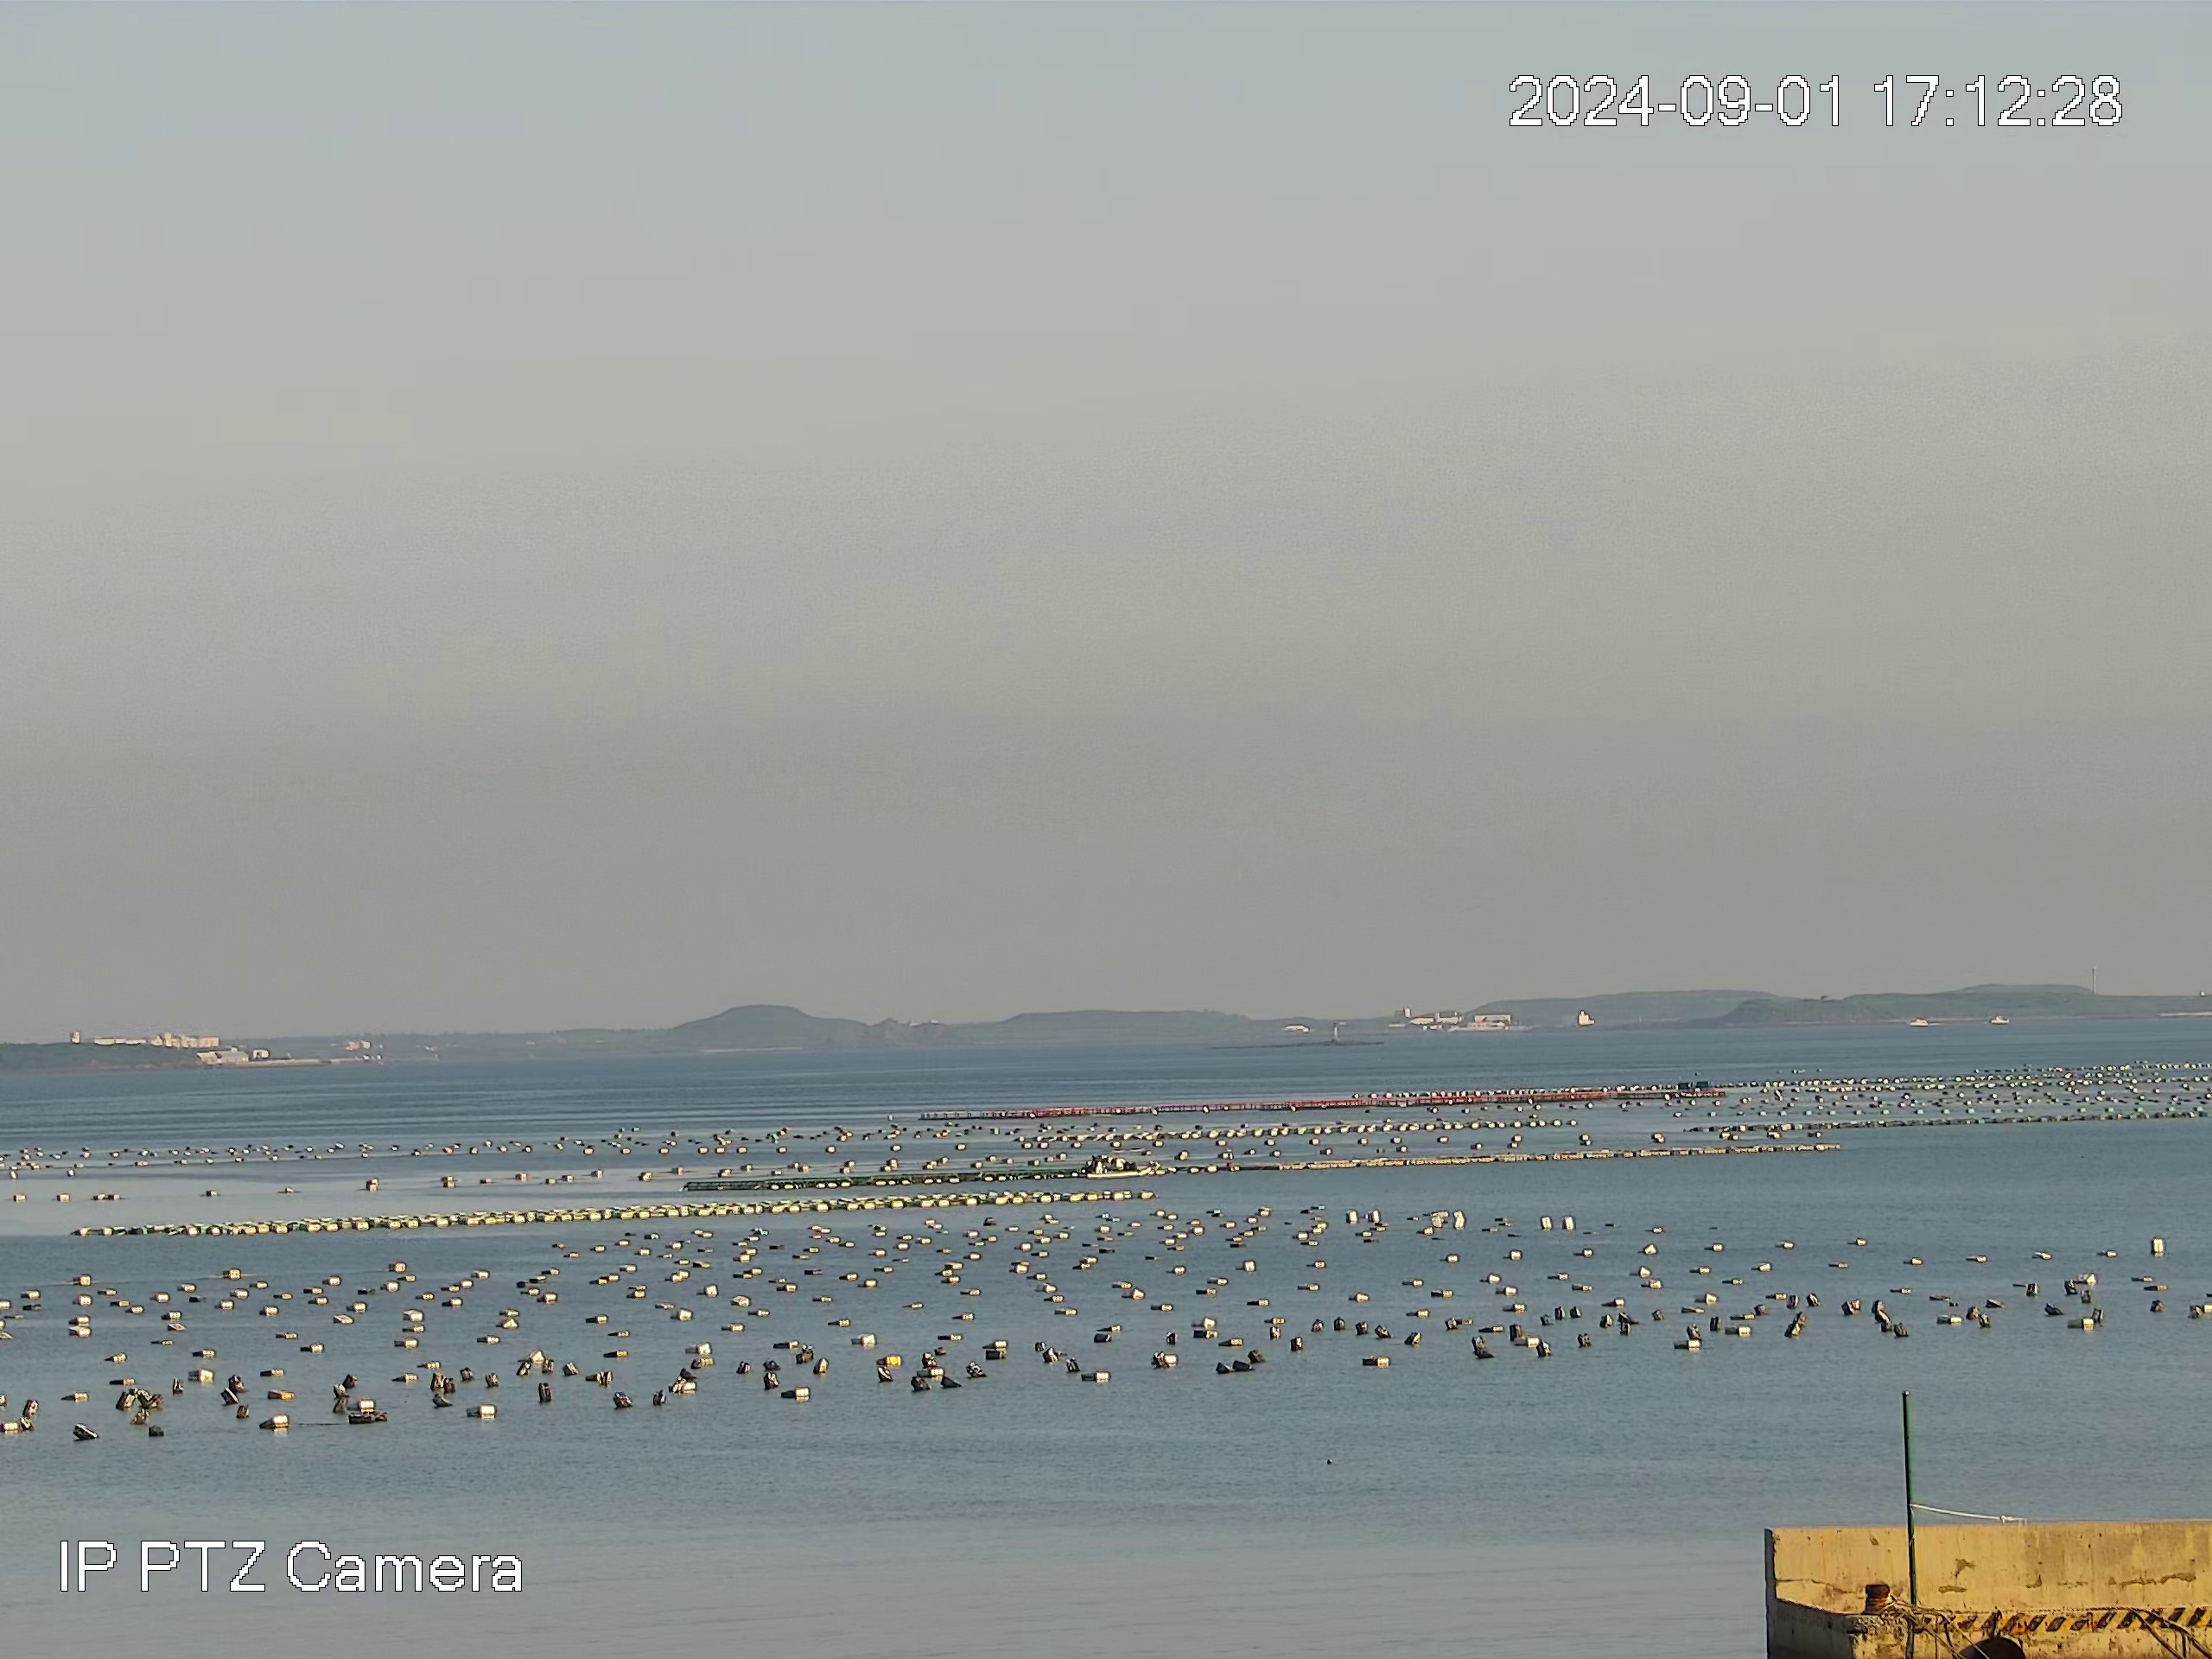boat: (1092, 1154, 1151, 1180)
